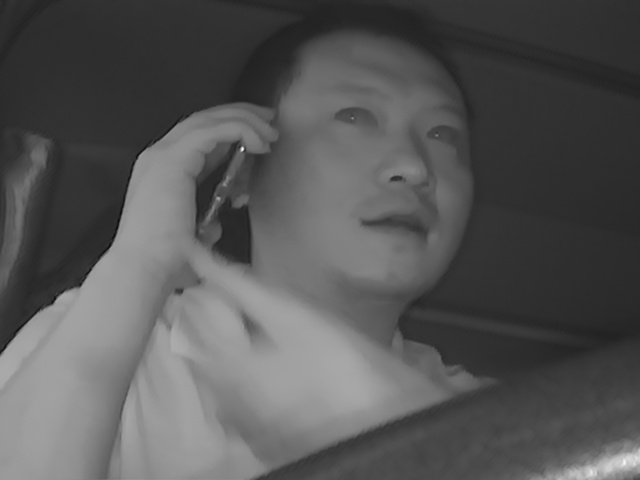hand: (119, 99, 249, 266)
